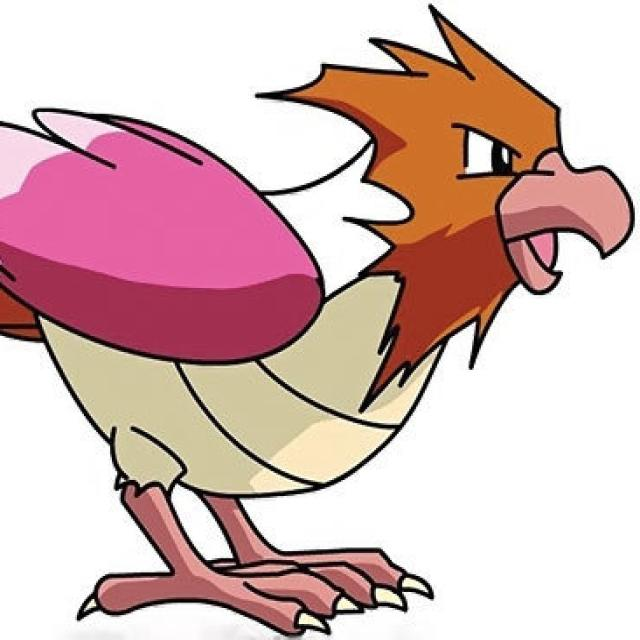Spearow: (0, 3, 640, 626)
